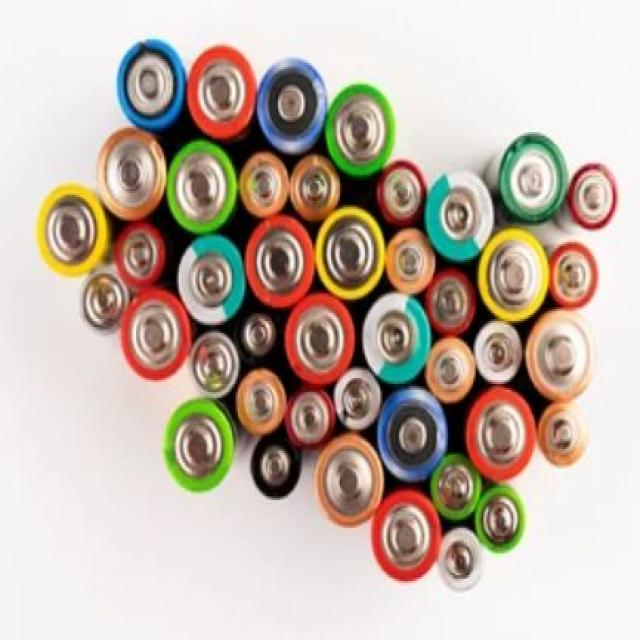electronic: (96, 22, 201, 150)
